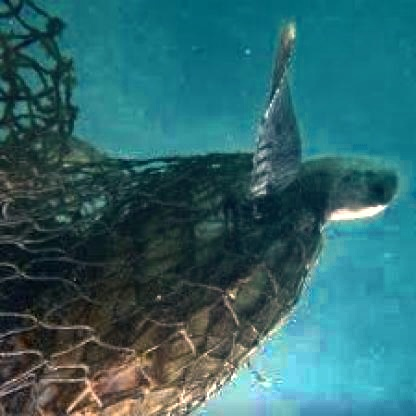net: (2, 162, 322, 416)
